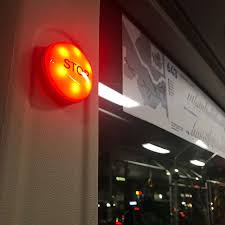bell: (40, 33, 96, 106)
